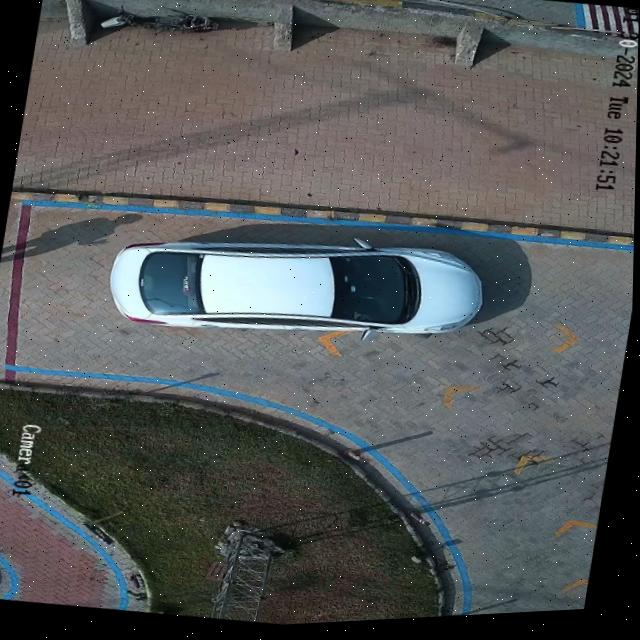car: (111, 243, 482, 344)
